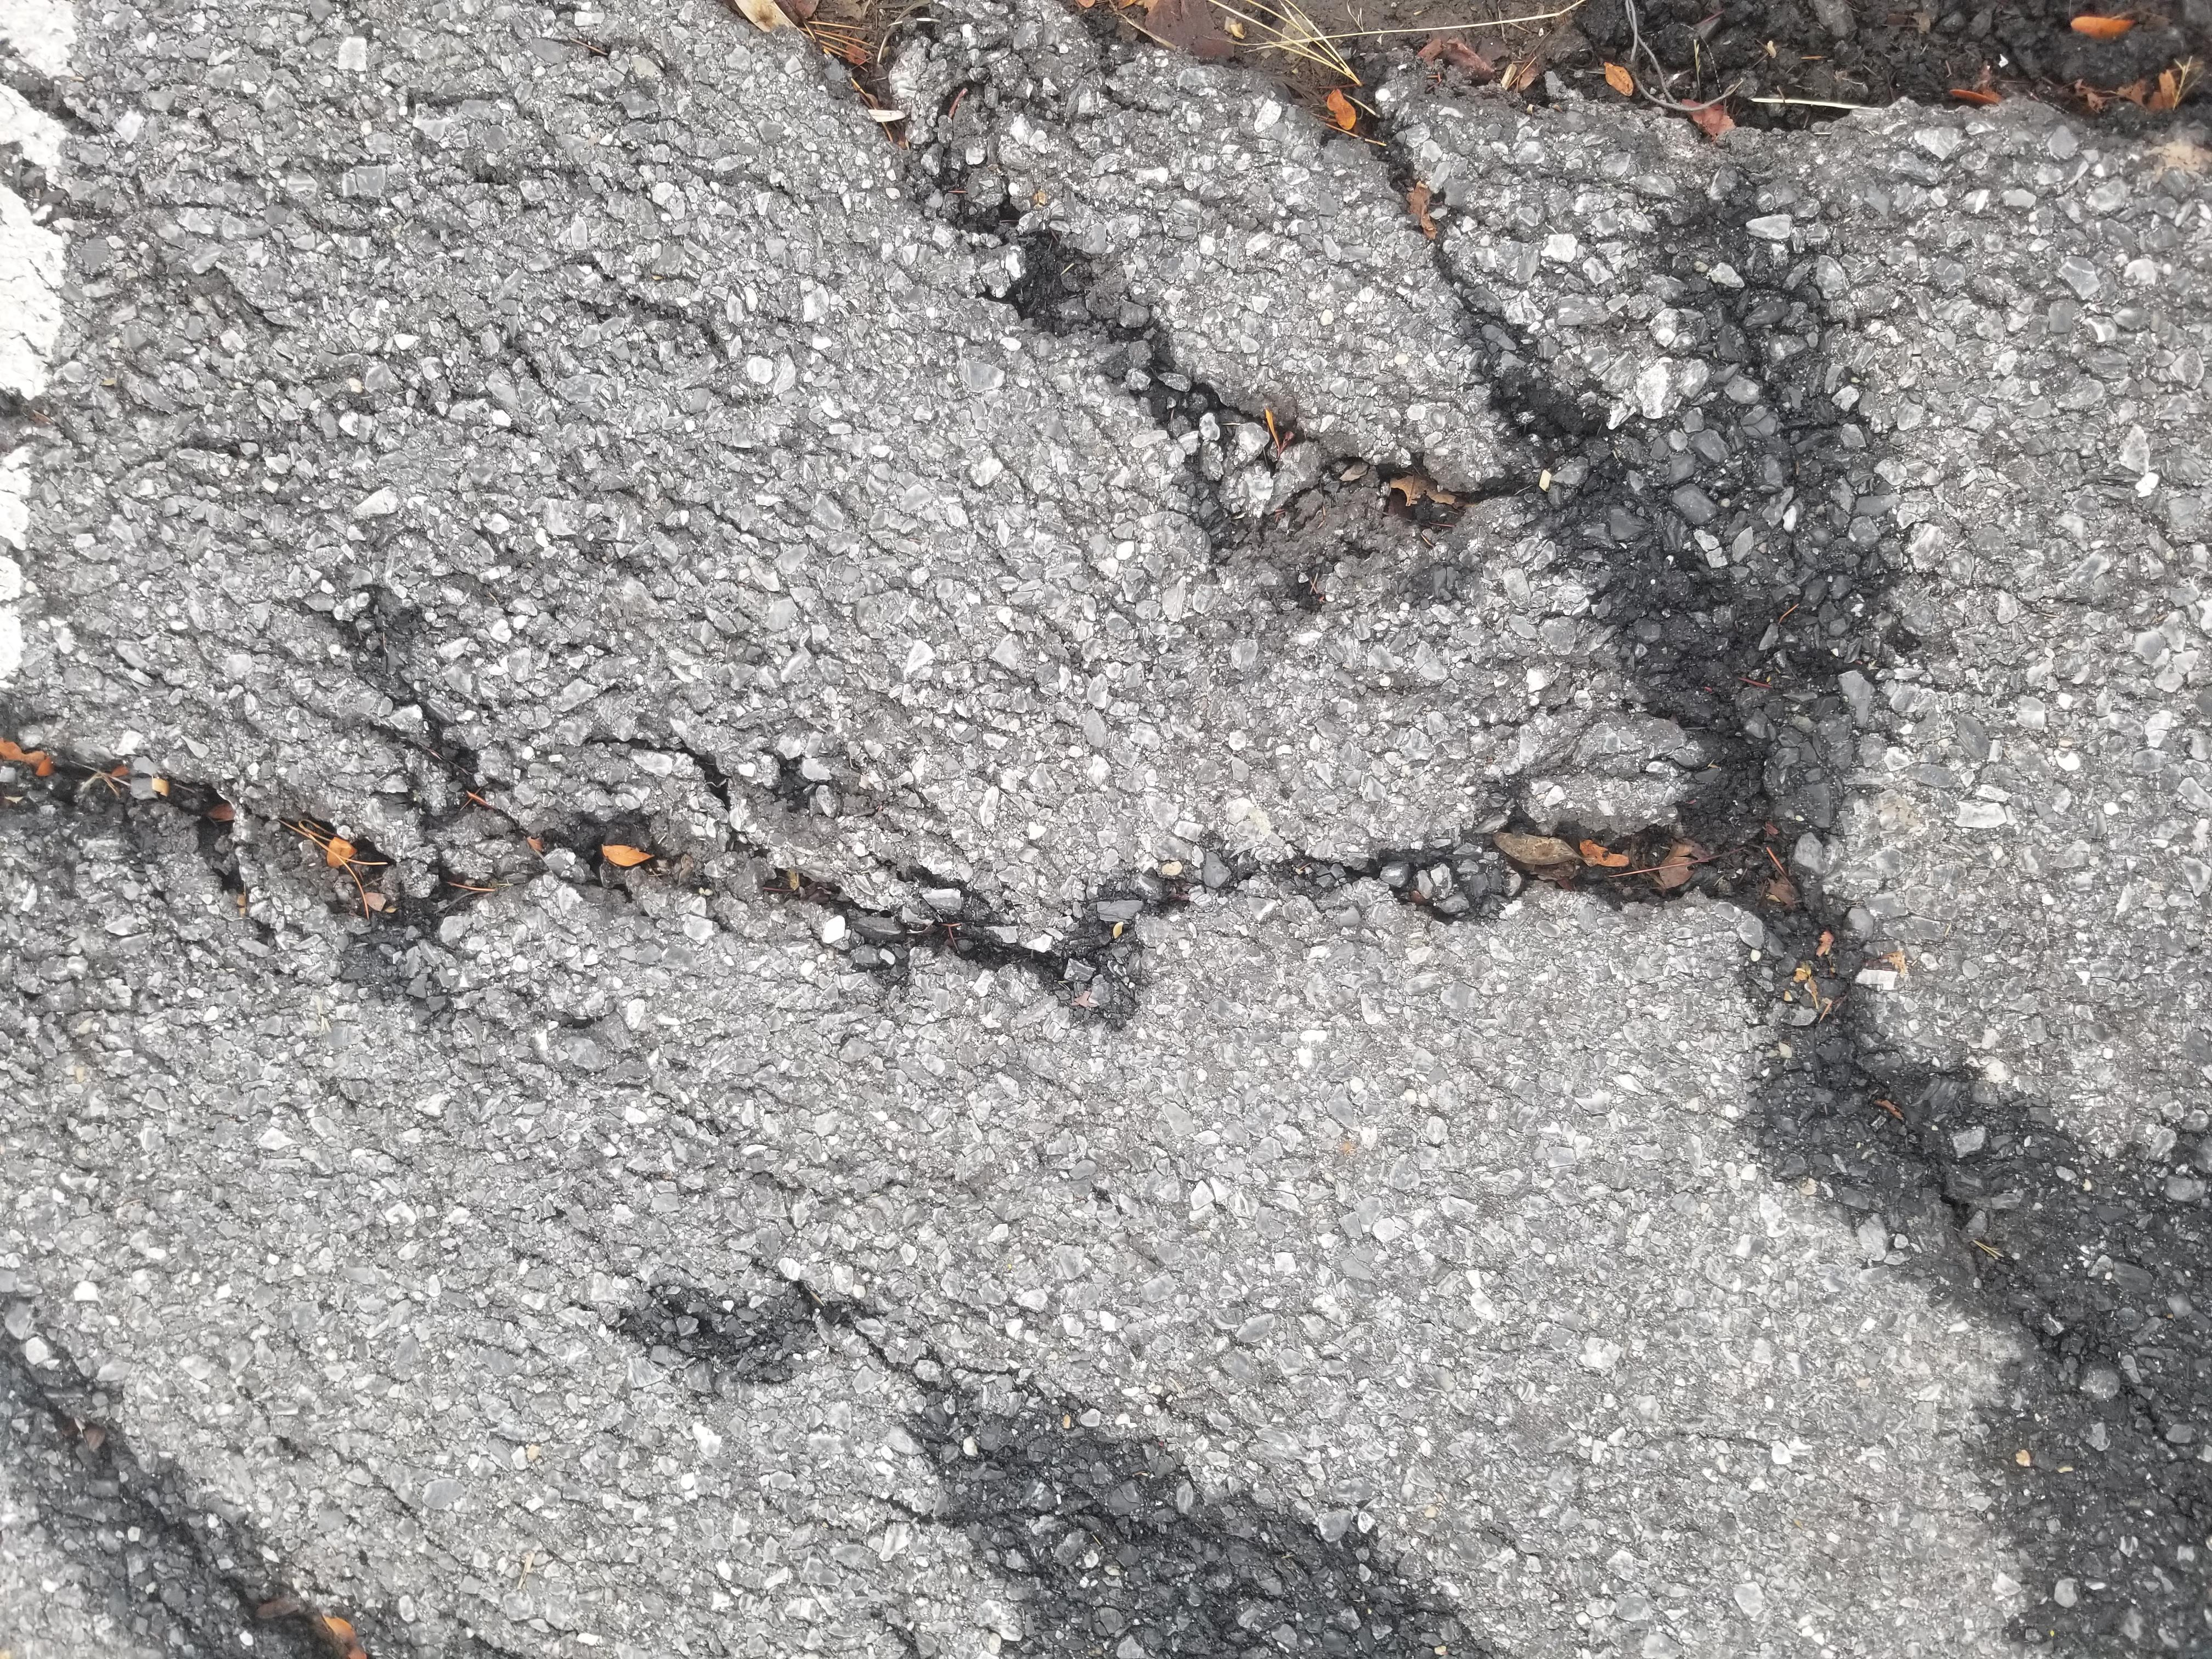pothole: (2, 5, 2209, 1659)
